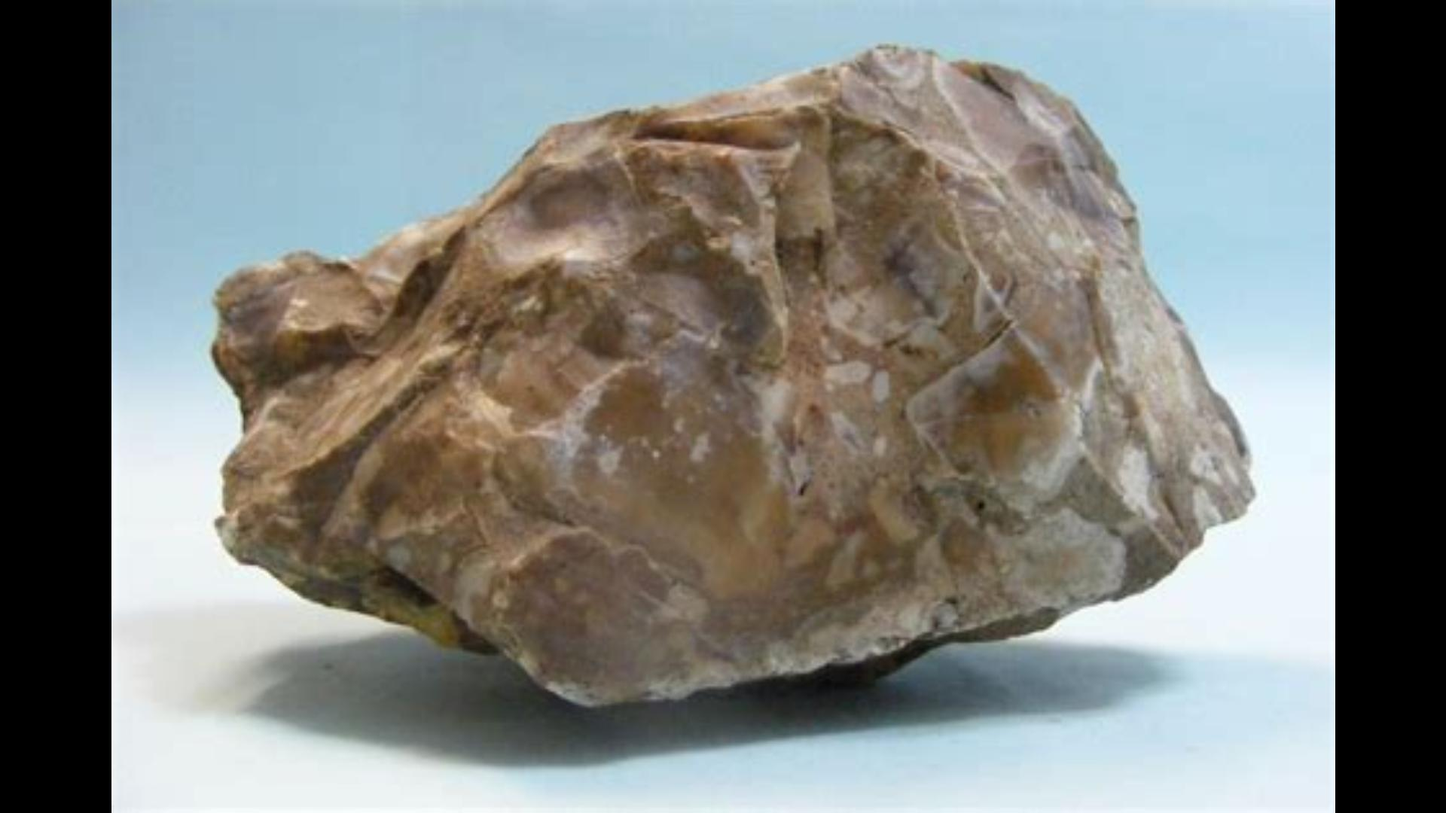rock: (211, 49, 1249, 702)
